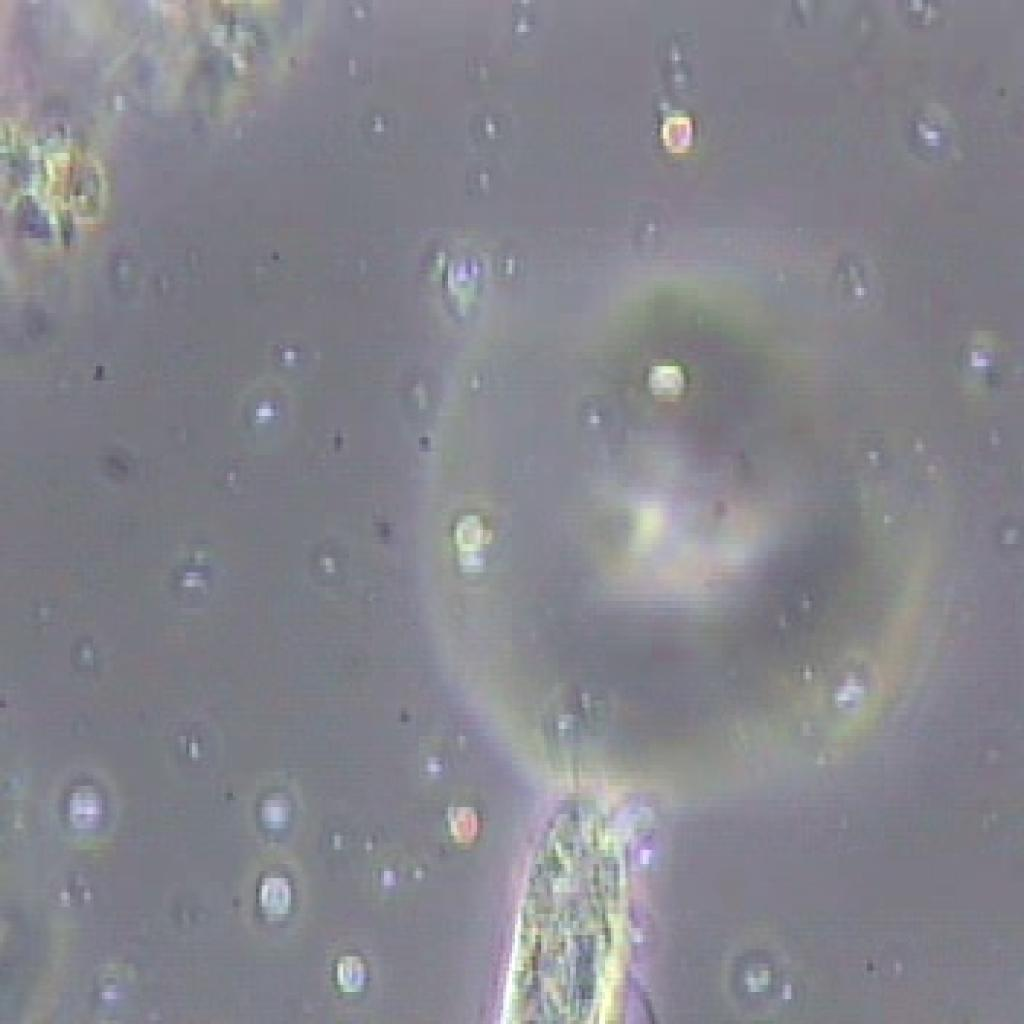Stylonychia: (502, 732, 659, 1024)
